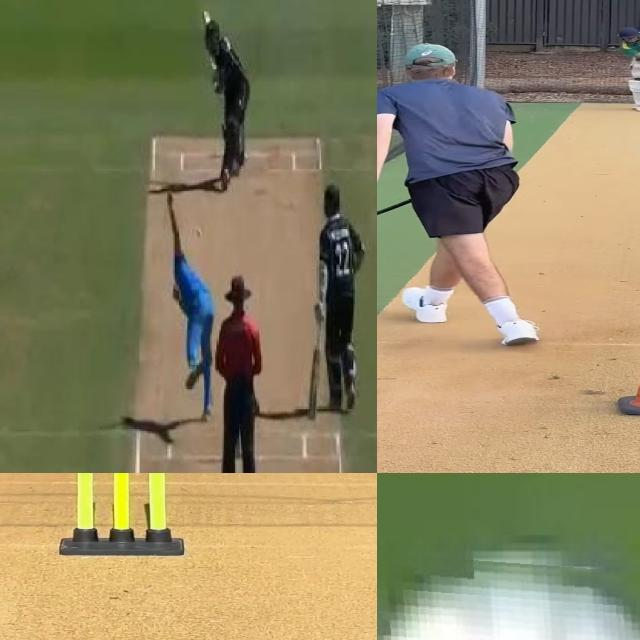Cricket ball: (377, 548, 640, 640), (192, 224, 204, 239)
Stumps: (54, 473, 187, 560)
